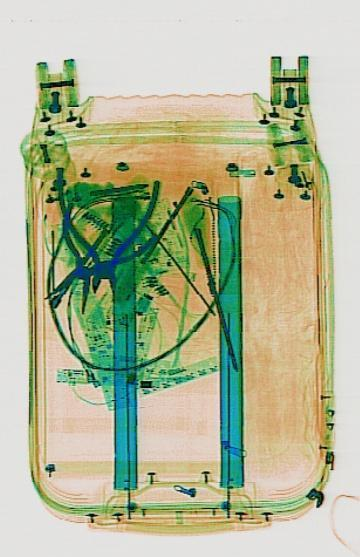Pliers: (42, 186, 155, 338), (55, 164, 160, 291)
